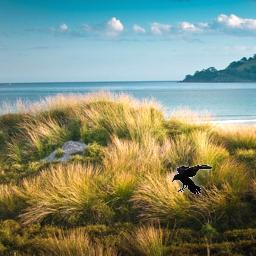Crow: (172, 164, 212, 194)
